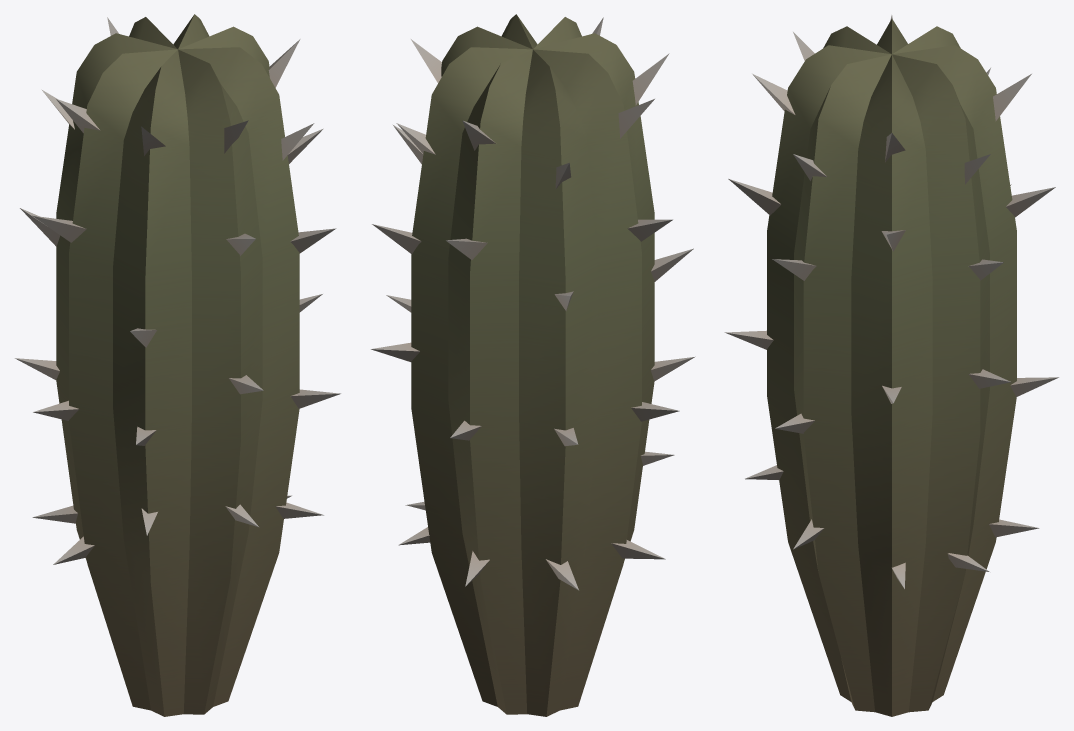
Rendered from Cactus01.fbx.
The picture shows the model from 3 angles, left to right: view 1: azimuth 30°, elevation 25°; view 2: azimuth 150°, elevation 25°; view 3: azimuth 270°, elevation 25°; orthographic projection.
Parts seen in each view (by area): view 1: Cactus01; view 2: Cactus01; view 3: Cactus01.
Boxes of the visible parts, x1,y1,x2,y2 form: Cactus01: (14, 14, 340, 716); Cactus01: (370, 14, 695, 716); Cactus01: (724, 15, 1058, 716).
Size of the model in its own units: 102 by 218 by 102.
